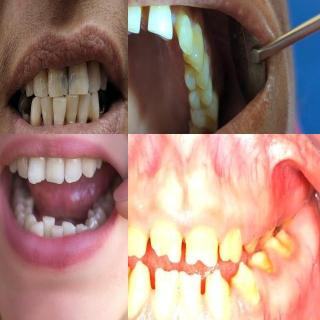Gum Swelling: (129, 158, 279, 245), (227, 231, 315, 320)
calculus: (84, 100, 94, 126), (38, 106, 46, 134), (185, 114, 195, 134), (137, 1, 145, 20)
cavities: (57, 64, 75, 92)
maligned: (44, 154, 67, 186), (27, 152, 48, 185), (76, 89, 92, 123), (52, 92, 68, 124), (64, 92, 80, 120), (88, 60, 100, 94), (40, 216, 56, 237), (61, 220, 77, 234), (31, 219, 45, 235), (50, 224, 64, 237)
